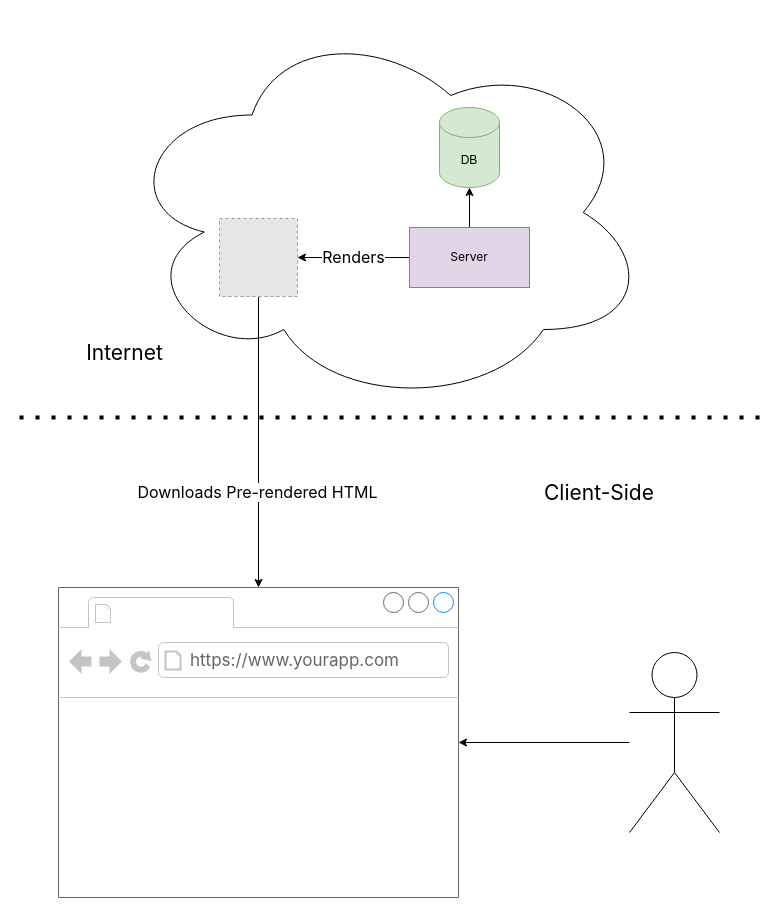
Some shapes in this 779 by 915 pixel diagram are drawn without their labels. Grey dashed boxes stand in for pictures. Here are the shapes that lost their labels. From the top down, the centre of each, then its label:
At [173,612]: "SSR".
At [674,742]: "User".
